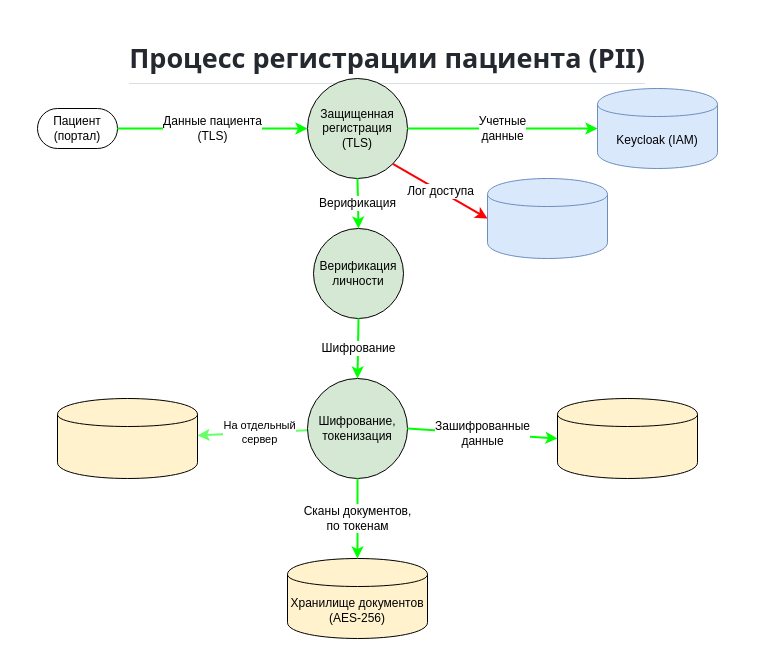
The diagram is 774 pixels wide and 656 high, and some of its shapes have lost their labels. Each missing label, with the box of its shape:
Аудит доступа: (486, 178, 608, 258)
База пациентов (TDE): (556, 398, 698, 478)
Хранилище ключей шифрования (Vault): (56, 398, 198, 478)
